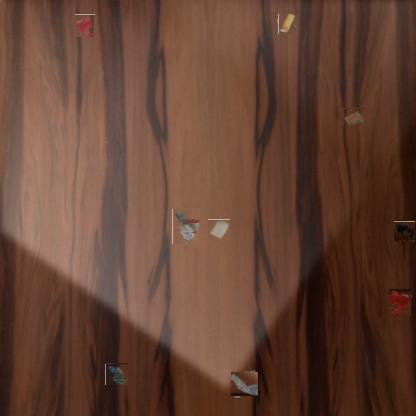dirty: (172, 208, 201, 244), (231, 371, 257, 397), (105, 363, 128, 385), (209, 219, 230, 240), (341, 108, 365, 126), (395, 221, 416, 241), (278, 15, 296, 34)
liquid: (388, 290, 412, 314), (76, 14, 96, 37)
